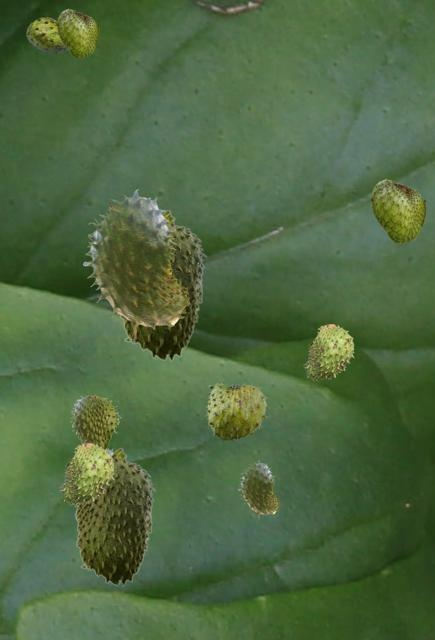guyabano: (83, 189, 189, 338), (119, 209, 206, 360), (74, 447, 155, 585), (205, 380, 268, 440), (371, 178, 425, 242), (59, 443, 113, 504), (70, 448, 113, 515), (303, 324, 353, 380), (70, 395, 120, 449), (238, 460, 279, 518), (57, 8, 98, 57), (26, 17, 67, 52)
